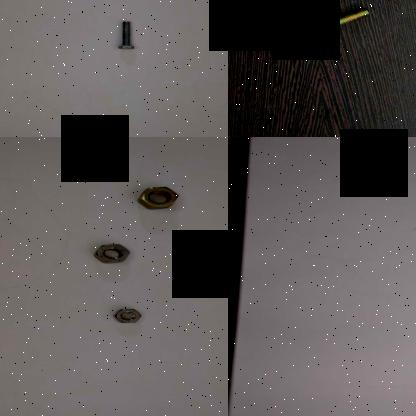Bolts: (316, 3, 372, 34), (111, 16, 139, 52)
NUTS: (131, 182, 190, 207), (92, 237, 138, 267), (110, 304, 150, 326)
